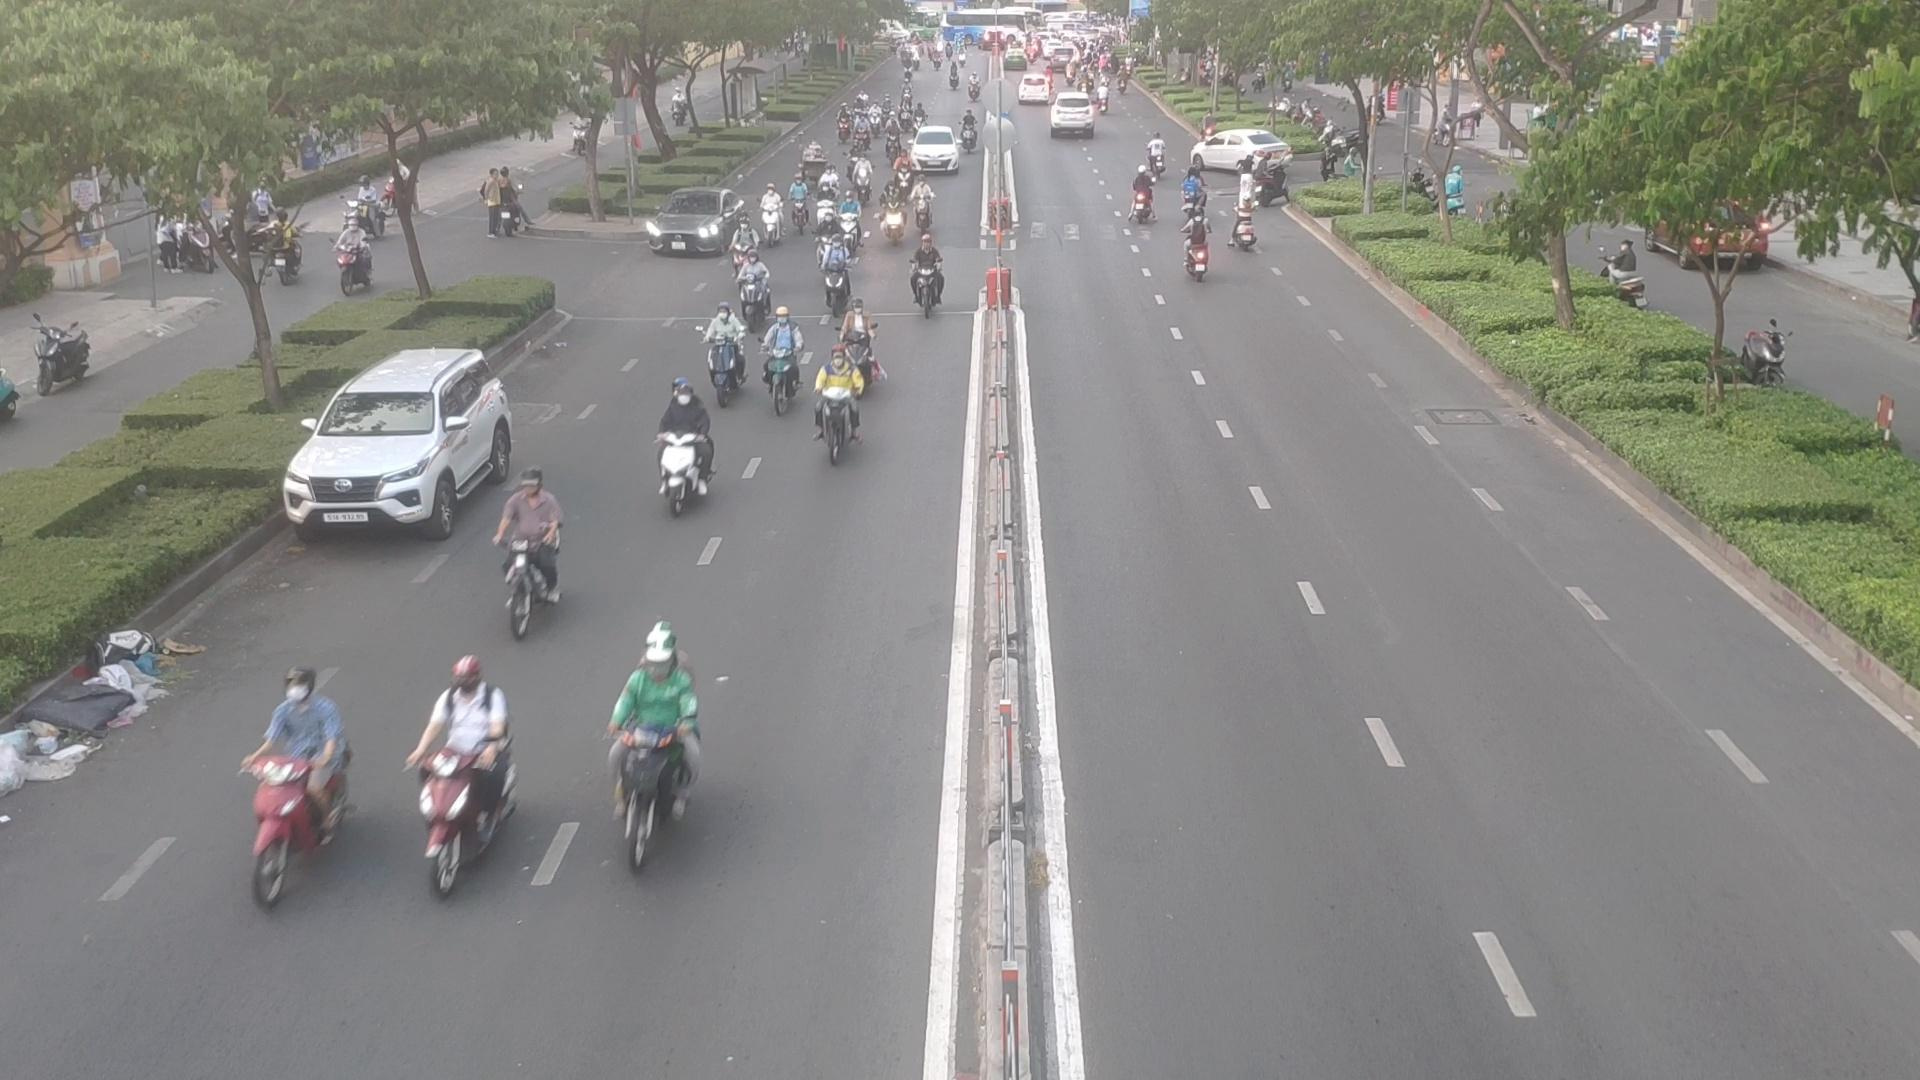car: (282, 344, 524, 537), (641, 191, 752, 261), (1192, 132, 1288, 174), (907, 128, 964, 174)
motorbike: (214, 653, 347, 902), (615, 626, 709, 901), (411, 651, 508, 920), (498, 471, 572, 622), (655, 378, 720, 512), (700, 305, 749, 405), (762, 311, 791, 421), (843, 305, 880, 388), (815, 349, 847, 444), (903, 237, 942, 313), (1174, 216, 1215, 278), (822, 247, 853, 316), (1129, 173, 1163, 225), (835, 193, 864, 253), (760, 186, 781, 251), (731, 214, 754, 270), (748, 252, 767, 319), (880, 182, 902, 236), (808, 183, 836, 225), (914, 178, 939, 224), (1233, 198, 1254, 251), (791, 175, 808, 232), (1188, 171, 1207, 222), (1147, 131, 1164, 171), (855, 154, 870, 194), (963, 109, 977, 152), (816, 212, 829, 257), (895, 152, 911, 189), (884, 119, 897, 160), (855, 116, 869, 145)
